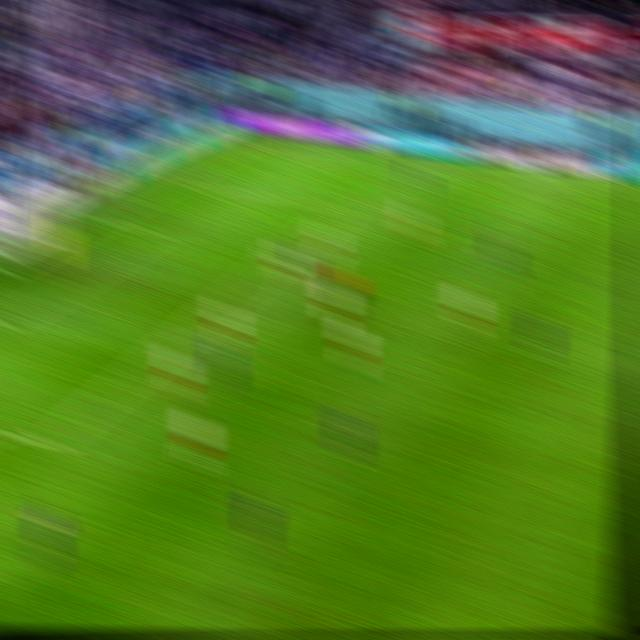bigarea_bottom_inner: (32, 427, 67, 458)
bigarea_top_inner: (331, 196, 361, 219)
bigarea_top_outter: (155, 169, 185, 191)
bottom_arc_area_intersection: (162, 329, 193, 354)
corner: (227, 131, 256, 150)
smallarea_bottom_inner: (0, 307, 19, 336)
smallarea_top_inner: (143, 219, 173, 242)
smallarea_top_outter: (83, 209, 112, 230)
top_arc_area_intersection: (264, 251, 292, 272)
